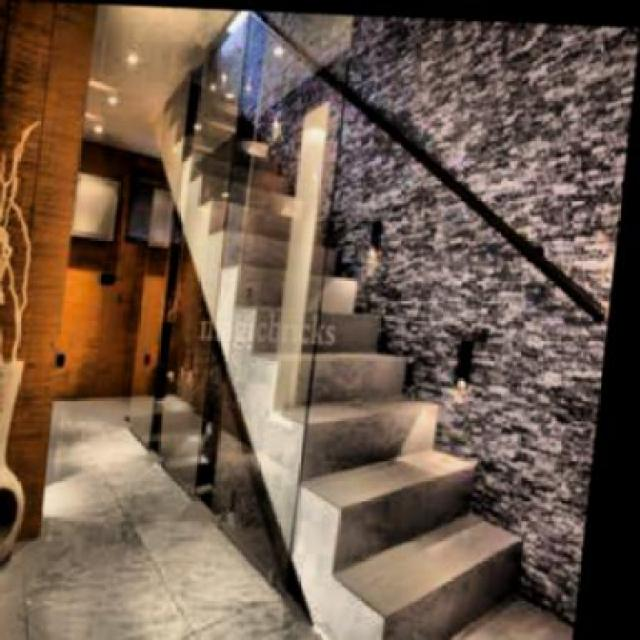stair: (118, 44, 610, 638)
